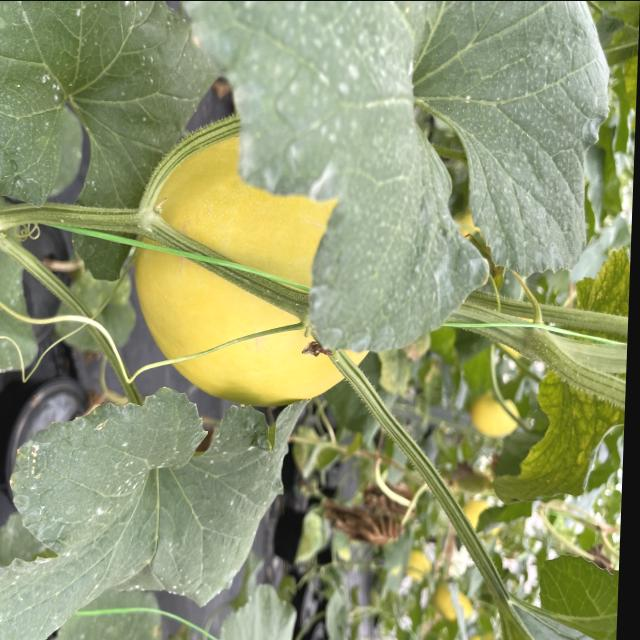alternaria leaf blight: (508, 260, 630, 502)
powdery mildew: (193, 0, 614, 344), (0, 400, 286, 640), (0, 1, 195, 263)
